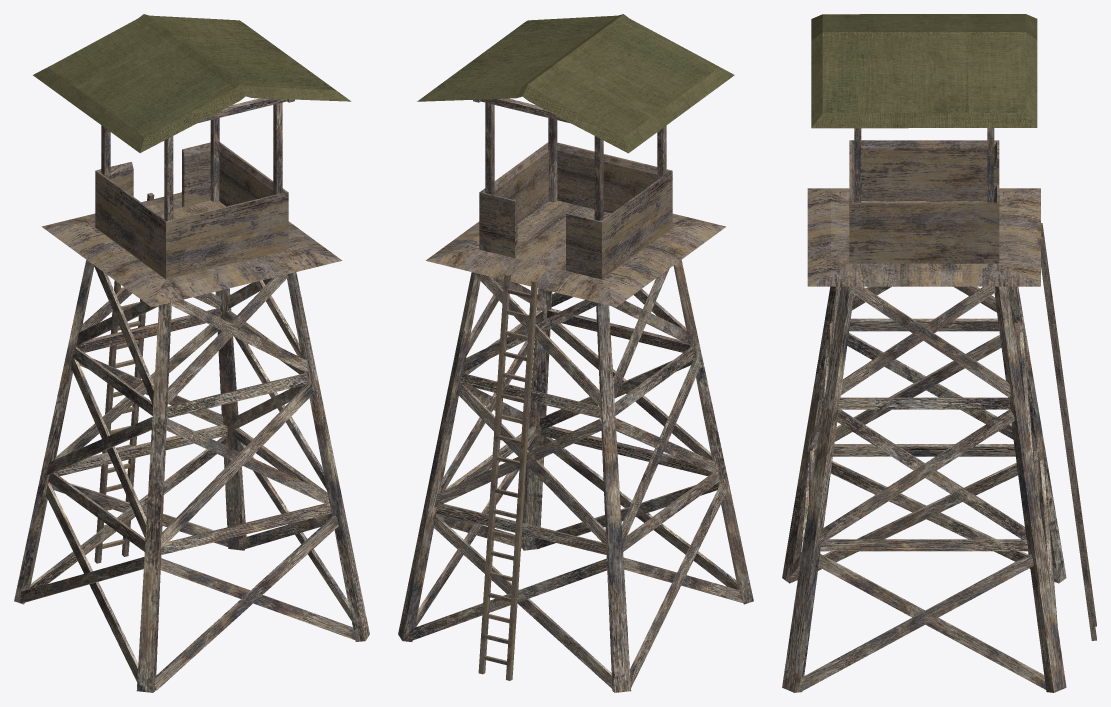
The model's file is thap.fbx.
3 views of the same model, side by side, from view 1: azimuth 30°, elevation 25°; view 2: azimuth 150°, elevation 25°; view 3: azimuth 270°, elevation 25° (orthographic). The views are drawn at different scales.
Visible parts, largest first — view 1: Plane.001, Cube.004, Cube.002, Cube.005, Cube.008, Cube.006, Cube.011, Cube.010, Cube.012, Cube.013, Cube.003, Wooden_Ladder (+1 smaller); view 2: Plane.001, Cube.004, Cube.002, Cube.005, Wooden_Ladder, Cube.006, Cube.008, Cube.010, Cube.011, Cube.012, Cube.013, Cube.003 (+1 smaller); view 3: Plane.001, Cube.004, Cube.002, Cube.005, Cube.006, Cube.008, Cube.010, Cube.011, Wooden_Ladder, Cube.012, Cube.013, Cube.003.
Part boxes in pixels (x1,y1,x2,y2): Plane.001: (41,142,342,307); Cube.004: (33,14,351,152); Cube.002: (14,260,369,692); Cube.005: (48,308,331,554); Cube.008: (29,436,355,681); Cube.006: (20,440,351,690); Cube.011: (55,324,329,538); Cube.010: (46,337,326,549); Cube.012: (81,265,308,404); Cube.013: (76,274,301,404); Cube.003: (101,102,282,220); Wooden_Ladder: (94,193,154,563); Plane.001: (425,142,725,307); Cube.004: (417,14,734,153); Cube.002: (398,260,753,692); Cube.005: (436,308,719,554); Wooden_Ladder: (478,273,538,680); Cube.006: (408,436,737,687); Cube.008: (415,437,743,688); Cube.010: (434,323,712,544); Cube.011: (440,320,716,543); Cube.012: (466,273,695,406); Cube.013: (463,268,686,398); Cube.003: (485,102,666,220); Plane.001: (807,140,1040,286); Cube.004: (811,14,1037,128); Cube.002: (782,286,1066,692); Cube.005: (809,318,1039,551); Cube.006: (786,459,1057,691); Cube.008: (800,462,1058,689); Cube.010: (807,332,1035,544); Cube.011: (817,334,1036,539); Wooden_Ladder: (1037,223,1096,640); Cube.012: (830,286,1020,397); Cube.013: (831,286,996,395); Cube.003: (854,128,994,202).
Bounding box in the file's own units: 385 × 900 × 426.
3 materials, 3 textured.
